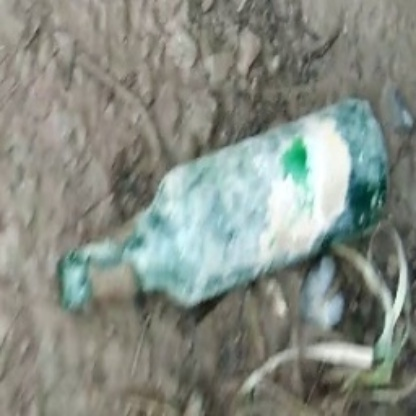bottle: (59, 94, 393, 311)
